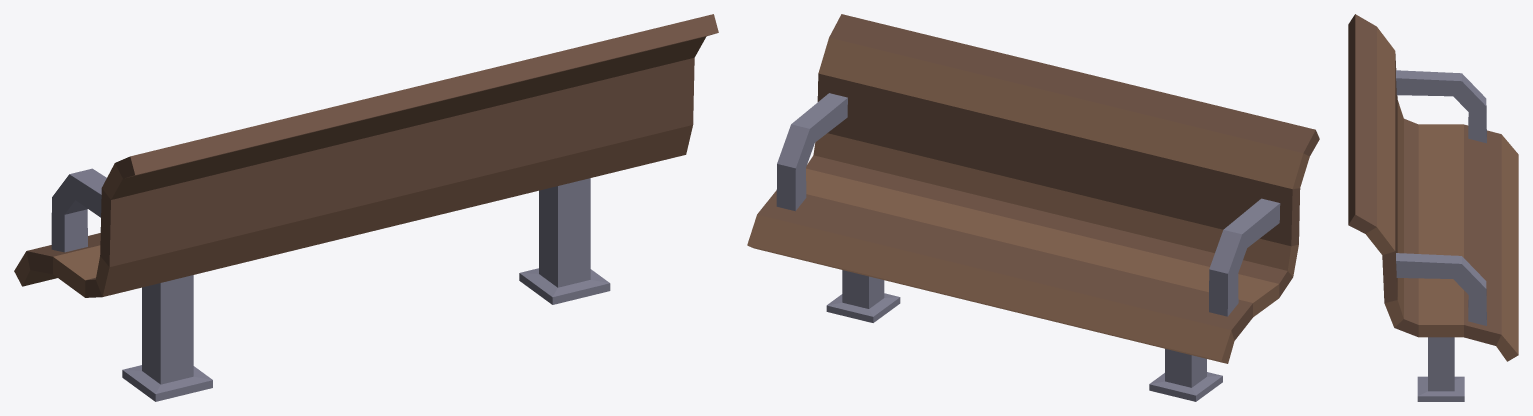
Rendered from penkki.glb.
3 views of the same model, side by side, from view 1: azimuth 30°, elevation 25°; view 2: azimuth 150°, elevation 25°; view 3: azimuth 270°, elevation 25° (orthographic). The views are drawn at different scales.
Parts seen in each view (by area): view 1: Cube.001; view 2: Cube.001; view 3: Cube.001.
Part boxes in pixels (left/top/right/bottom): Cube.001: left=14, top=14, right=718, bottom=401; Cube.001: left=747, top=14, right=1319, bottom=401; Cube.001: left=1348, top=14, right=1518, bottom=401.
Size of the model in its own units: 2.23 by 1.08 by 0.8035.
